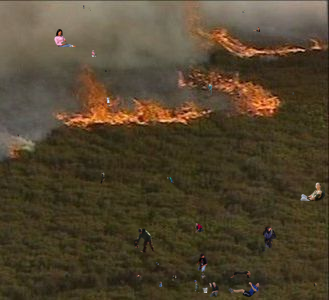Human: (133, 228, 155, 253), (300, 181, 325, 201), (228, 282, 261, 297), (54, 29, 81, 47), (260, 227, 277, 252), (196, 253, 208, 272), (83, 102, 104, 111), (194, 280, 208, 293), (209, 282, 219, 297), (230, 271, 251, 278), (96, 172, 106, 184), (195, 223, 204, 233), (104, 69, 117, 75), (167, 177, 176, 185), (88, 50, 97, 57), (159, 281, 169, 287), (313, 282, 320, 290), (208, 84, 212, 96), (83, 5, 91, 11), (106, 96, 110, 107), (253, 27, 260, 32), (172, 275, 177, 281), (201, 273, 206, 279), (137, 275, 141, 279), (133, 10, 136, 14), (16, 134, 19, 138), (174, 198, 176, 204), (292, 92, 295, 95), (156, 262, 159, 265), (242, 10, 245, 13)
